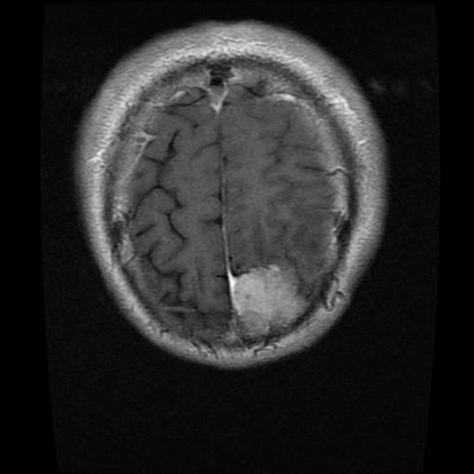Tumour-Meningioma: (206, 248, 321, 344)
